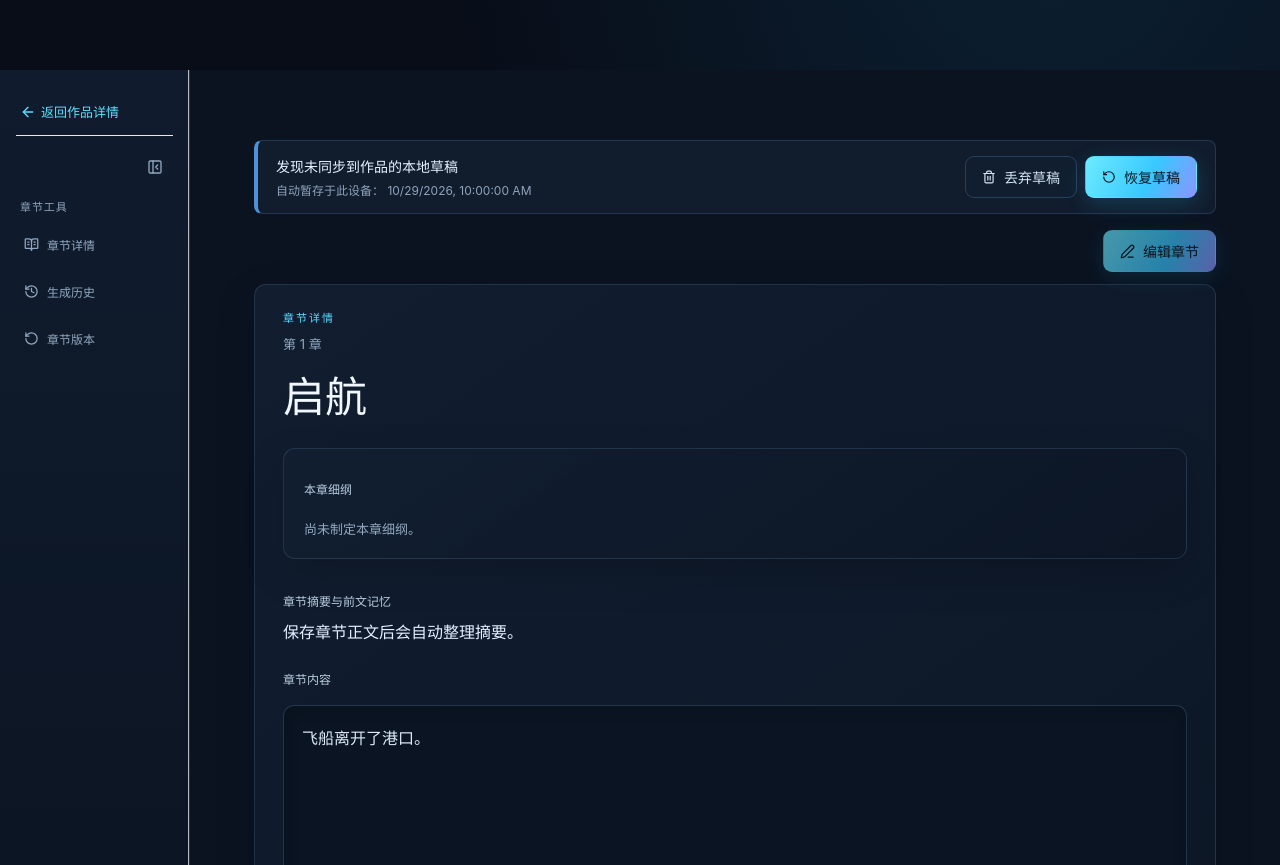
Test case: 章节详情页 › 重新打开章节时可以恢复自动暂存的正文并保存到作品
Expected: the text "发现未同步到作品的本地草稿" is shown, [276, 158, 458, 175]
Click the button "恢复草稿".
click(1141, 177)  # box [1085, 156, 1197, 198]
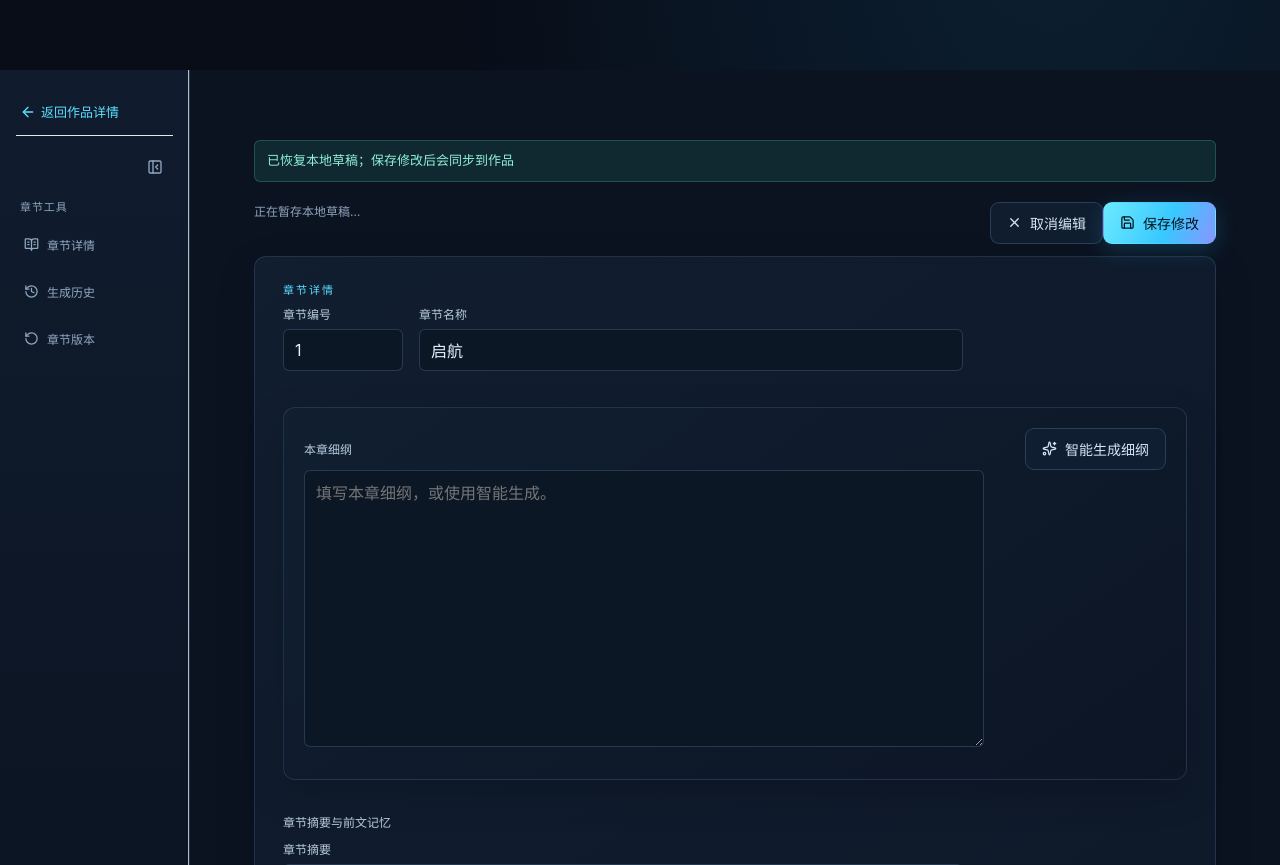
Click the button "保存修改".
click(1160, 222)  # box [1103, 202, 1216, 244]
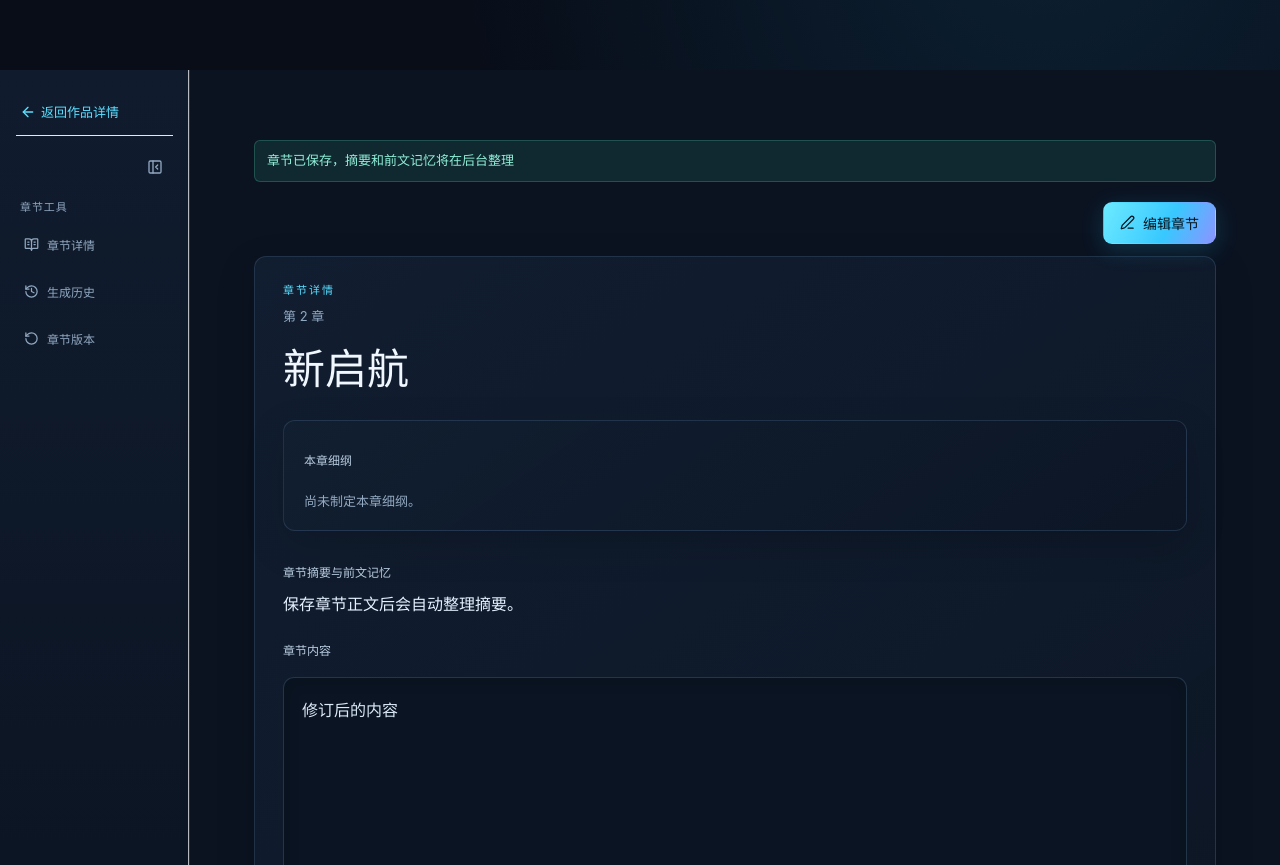
Result: the button "编辑章节" is shown at [1103, 202, 1216, 244]
